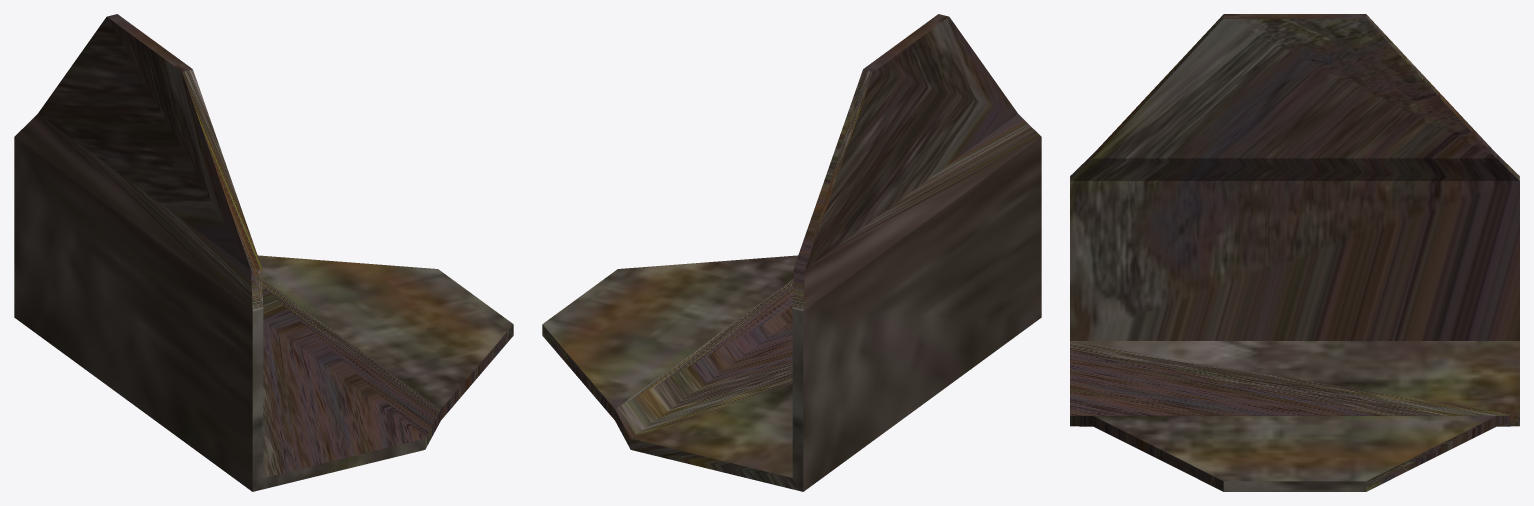
File: prop_pipetower_crossbarcorner.glb
3 renders of one model, left to right at view 1: azimuth 30°, elevation 25°; view 2: azimuth 150°, elevation 25°; view 3: azimuth 270°, elevation 25°, orthographic. The views are drawn at different scales.
Size of the model in its own units: 17 by 16.98 by 20.49.
Materials: 1 (1 with a texture image).
